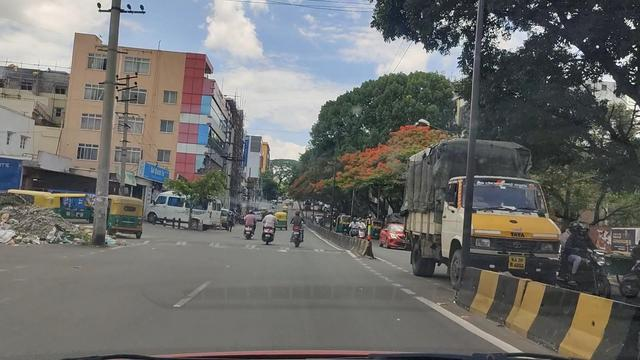SpeedBump: (153, 236, 330, 253)
